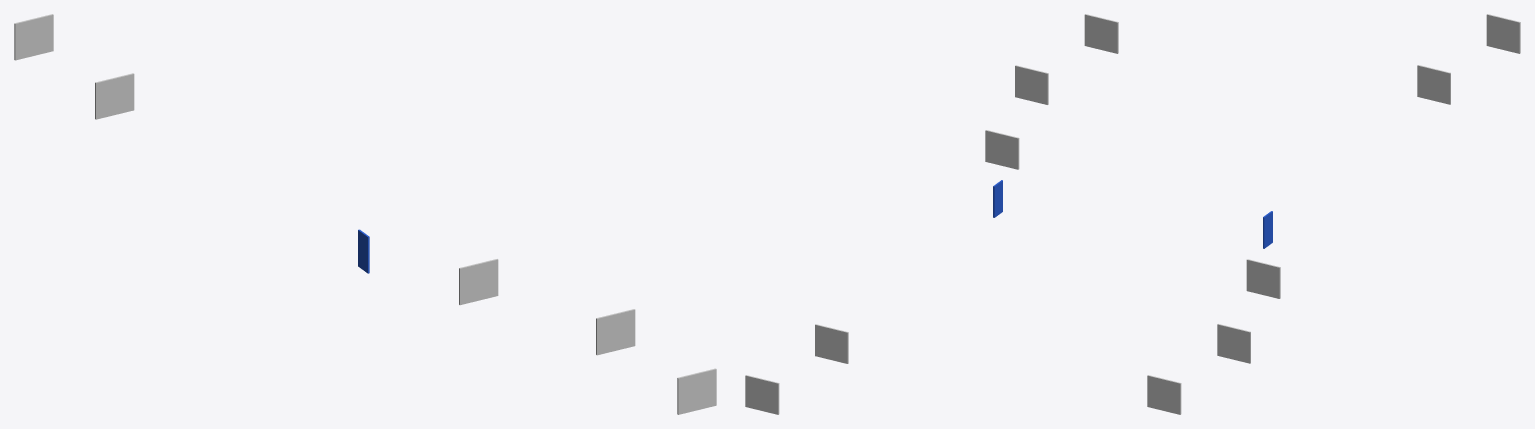
File: Puertas.fbx
3 views of the same model, side by side, from view 1: azimuth 30°, elevation 25°; view 2: azimuth 150°, elevation 25°; view 3: azimuth 330°, elevation 25° (orthographic). The views are drawn at different scales.
Visible parts, largest first — view 1: Puerta7, Puerta8, Puerta5, Puerta10, Puerta2, Puerta4, Puerta11, Puerta9, Puerta1, Puerta6; view 2: Puerta2, Puerta5, Puerta7, Puerta8, Puerta6, Puerta10, Puerta11, Puerta9, Puerta4, Puerta1; view 3: Puerta9, Puerta2, Puerta11, Puerta4, Puerta1, Puerta6, Puerta10, Puerta7, Puerta5, Puerta8.
Boxes of the visible parts, bbox=[...] form: Puerta7: bbox=[677, 373, 697, 414]; Puerta8: bbox=[95, 78, 115, 119]; Puerta5: bbox=[596, 313, 616, 355]; Puerta10: bbox=[14, 18, 34, 60]; Puerta2: bbox=[459, 263, 478, 305]; Puerta4: bbox=[615, 309, 635, 350]; Puerta11: bbox=[34, 14, 53, 55]; Puerta9: bbox=[114, 73, 134, 114]; Puerta1: bbox=[478, 259, 498, 300]; Puerta6: bbox=[697, 368, 716, 409]; Puerta2: bbox=[1002, 134, 1019, 169]; Puerta5: bbox=[1031, 69, 1048, 104]; Puerta7: bbox=[1101, 18, 1118, 53]; Puerta8: bbox=[831, 328, 848, 363]; Puerta6: bbox=[1084, 14, 1101, 49]; Puerta10: bbox=[762, 379, 779, 414]; Puerta11: bbox=[745, 375, 762, 410]; Puerta9: bbox=[815, 324, 831, 359]; Puerta4: bbox=[1015, 65, 1031, 100]; Puerta1: bbox=[985, 130, 1002, 165]; Puerta9: bbox=[1433, 69, 1450, 104]; Puerta2: bbox=[1246, 259, 1263, 294]; Puerta11: bbox=[1503, 18, 1520, 53]; Puerta4: bbox=[1233, 328, 1250, 363]; Puerta1: bbox=[1263, 263, 1280, 298]; Puerta6: bbox=[1164, 379, 1181, 414]; Puerta10: bbox=[1486, 14, 1503, 49]; Puerta7: bbox=[1147, 375, 1164, 410]; Puerta5: bbox=[1217, 324, 1234, 359]; Puerta8: bbox=[1417, 65, 1433, 100].
Size of the model in its own units: 990 by 200 by 5269.
